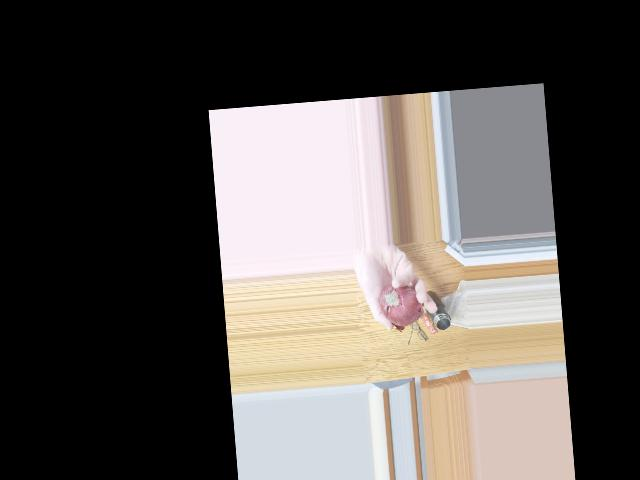onion: (380, 288, 422, 327)
